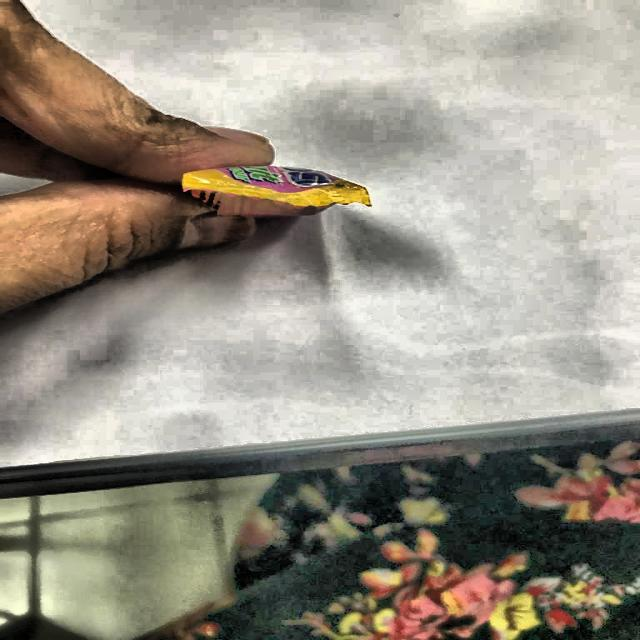Plastic: (173, 154, 398, 227)
